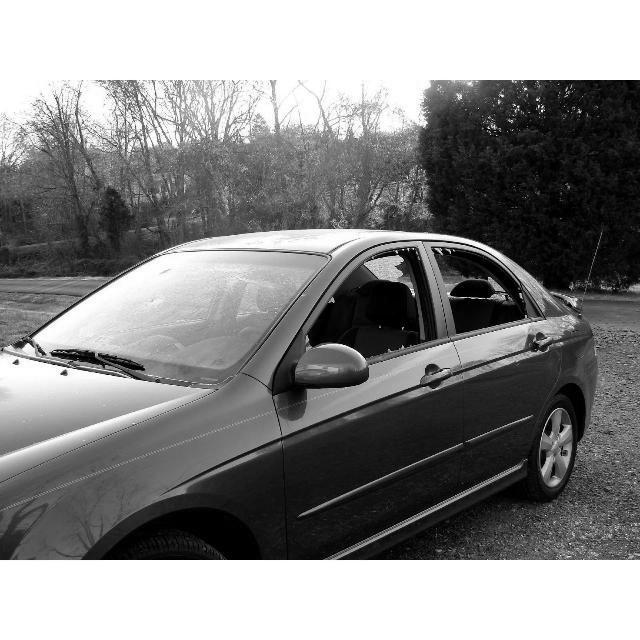Front-windscreen-damage: (51, 242, 330, 391)
doorouter-dent: (443, 232, 608, 479), (272, 257, 456, 434)
